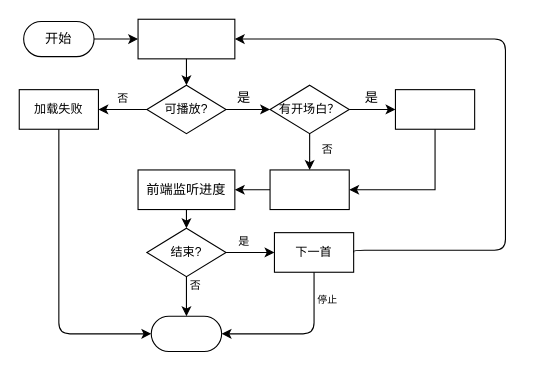
Some shapes in this 534 by 371 pixel diagram are drawn without their labels. The centre of each missing label's shape, as x and y in pixels:
"加载资源" goes at (186,38).
"播放开场白" goes at (434,109).
"播放歌曲" goes at (309,189).
"结束" goes at (186,333).
